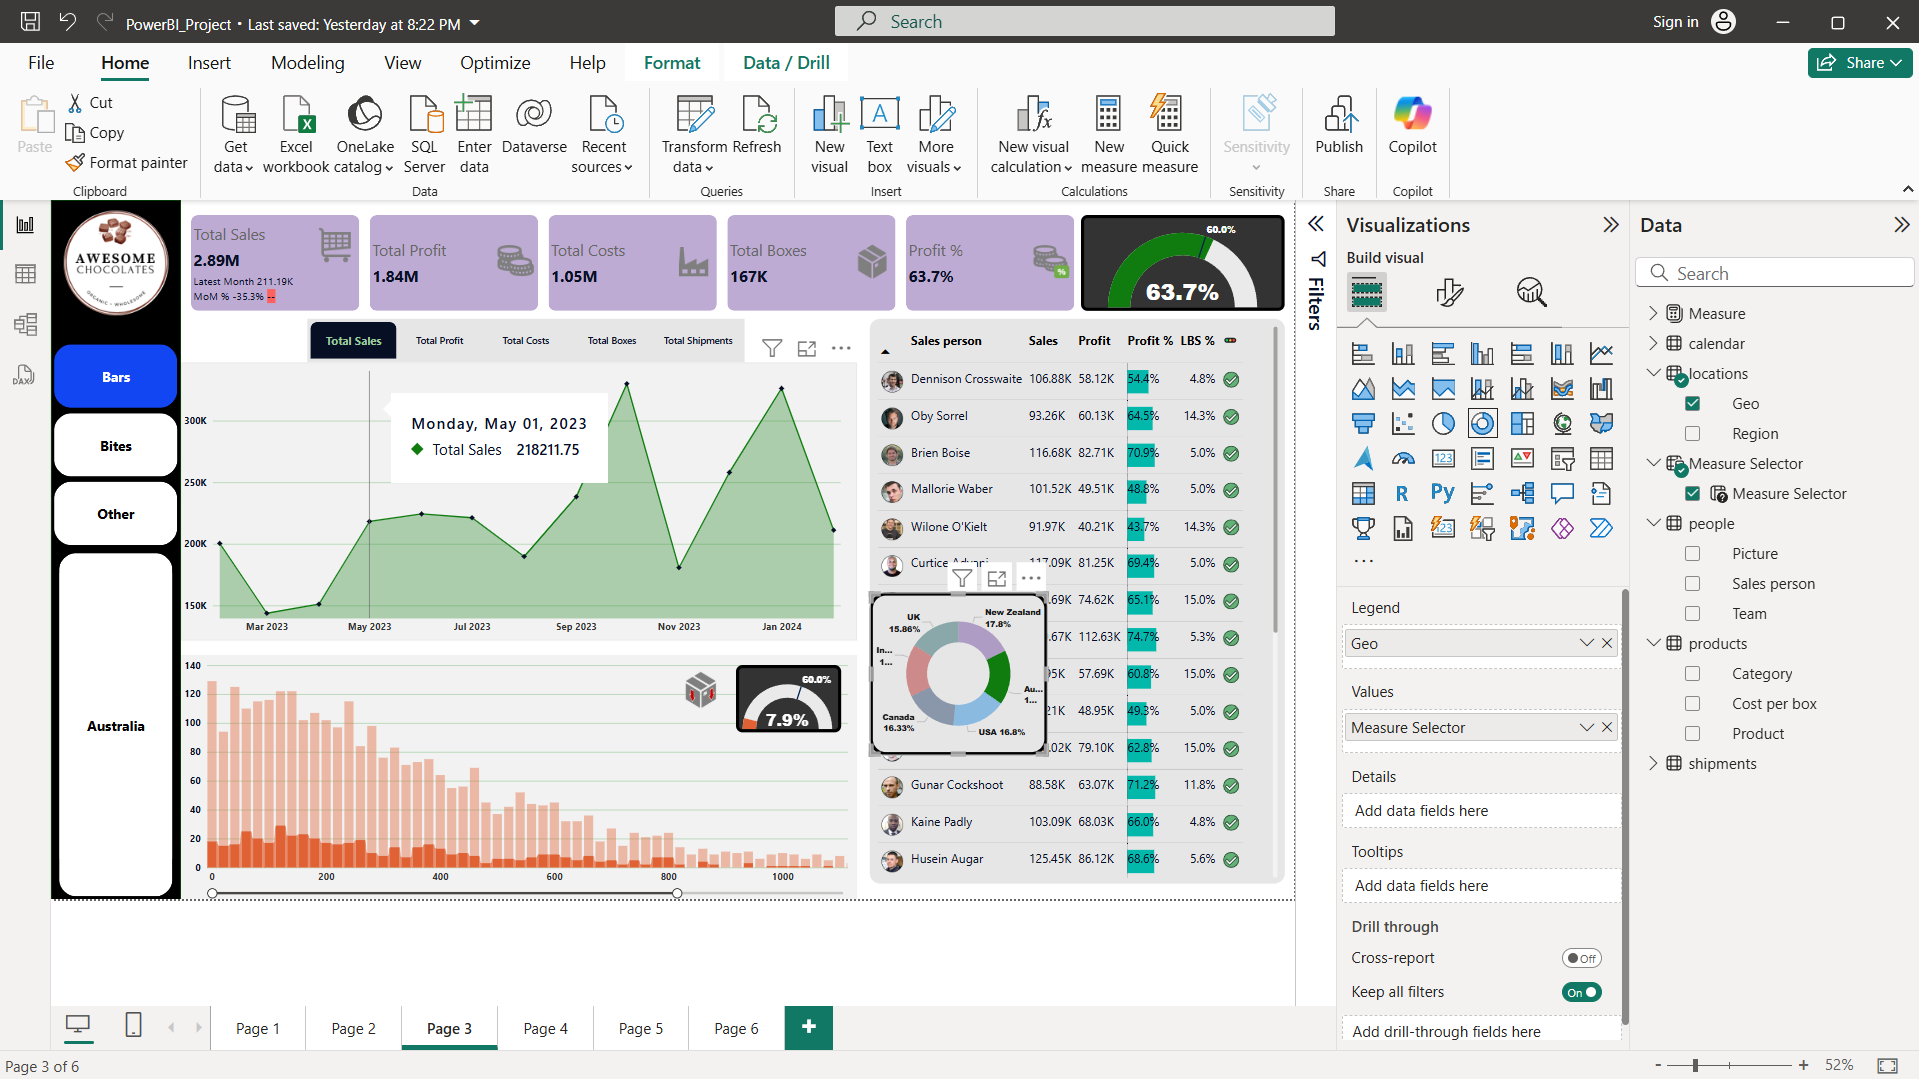

Layout of this report page (visuals, bound fields, positions):
{"tool":"powerbi","page":{"name":"Page 3","canvas":[1920,1080],"ordinal":2},"visuals":[{"type":"shape","box":[0,0,200.7,1080.8],"z":0},{"type":"advancedSlicerVisual","fields":{"Values":["locations.Geo"]},"box":[7.7,540.4,185.3,540.4],"z":1000},{"type":"advancedSlicerVisual","fields":{"Values":["products.Category"]},"box":[0,218.1,200.7,322.3],"z":2000},{"type":"cardVisual","fields":{"Data":["Measure.Total Sales","Measure.Total Profit","Measure.Total Costs","Measure.Total Boxes","Measure.Profit %"]},"box":[216.2,23.2,1368.4,148.6],"z":3000},{"type":"gauge","fields":{"Y":["Measure.Profit %"]},"box":[1590,24,314,148],"z":4000},{"type":"image","box":[7.7,11.6,185.3,171.8],"z":5000},{"type":"lineChart","title":"Total Shipments By Start of Month","fields":{"Y":["Measure.Total Sales"],"Category":["calendar.Start of Month"]},"box":[200.7,250.9,1044.2,428.5],"z":6000},{"type":"advancedSlicerVisual","fields":{"Values":["Measure Selector.Measure Selector"]},"box":[395.7,183.4,675.5,67.6],"z":7000},{"type":"columnChart","title":"Shipments Analysis","fields":{"Category":["shipments.Boxes (bins)"],"Y":["Measure.Total Shipments"]},"box":[200.7,702.5,1044.2,378.3],"z":8000},{"type":"gauge","fields":{"Y":["Measure.LBS %"]},"box":[1057.7,718,162.1,104.2],"z":9000},{"type":"image","box":[959.2,718,88.8,77.2],"z":10000},{"type":"tableEx","fields":{"Values":["people.Picture","people.Sales person","Measure.Total Sales","Measure.Total Profit","Measure.Profit %","Measure.LBS %","Measure.Profit Target Indicator"]},"box":[1264.2,183.4,640.8,872.4],"z":11000}]}

Visuals, with their boxes on the page's 1920x1080 design canvas (x1, y1, x2, y2). These are canvas units, not pixel positions in the 1919x1079 screenshot, which may show the page scaled, cropped or inside an application window:
shape: select_region(0, 0, 201, 1081)
advancedSlicerVisual - locations.Geo: select_region(8, 540, 193, 1081)
advancedSlicerVisual - products.Category: select_region(0, 218, 201, 540)
cardVisual - Measure.Total Sales x Measure.Total Profit: select_region(216, 23, 1585, 172)
gauge - Measure.Profit %: select_region(1590, 24, 1904, 172)
image: select_region(8, 12, 193, 183)
"Total Shipments By Start of Month" lineChart: select_region(201, 251, 1245, 679)
advancedSlicerVisual - Measure Selector.Measure Selector: select_region(396, 183, 1071, 251)
"Shipments Analysis" columnChart: select_region(201, 702, 1245, 1081)
gauge - Measure.LBS %: select_region(1058, 718, 1220, 822)
image: select_region(959, 718, 1048, 795)
tableEx - people.Picture x people.Sales person: select_region(1264, 183, 1905, 1056)
